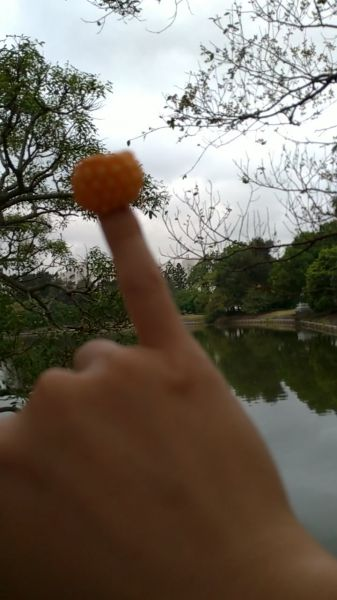eggs: (73, 149, 146, 215)
